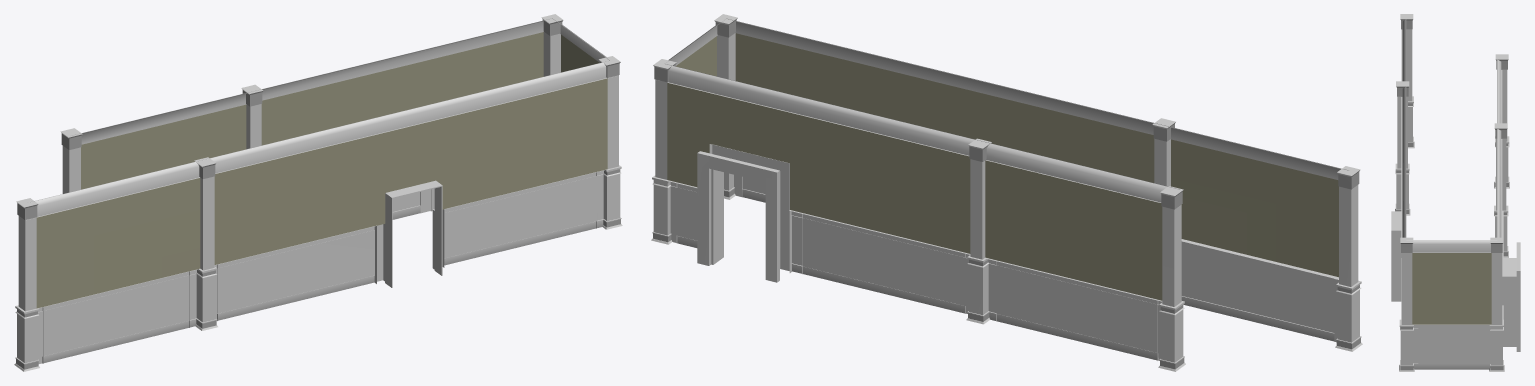
File: SM_H_Building_Tide_WardenOffice_05H_ATLAS.fbx
3 renders of one model, left to right at view 1: azimuth 30°, elevation 25°; view 2: azimuth 150°, elevation 25°; view 3: azimuth 270°, elevation 25°, orthographic. The views are drawn at different scales.
Parts seen in each view (by area): view 1: SM_H_Building_Tide_WardenOffice_05H_ATLAS; view 2: SM_H_Building_Tide_WardenOffice_05H_ATLAS; view 3: SM_H_Building_Tide_WardenOffice_05H_ATLAS.
Part boxes in pixels (x1=…): SM_H_Building_Tide_WardenOffice_05H_ATLAS: x1=14, y1=14, x2=622, y2=371; SM_H_Building_Tide_WardenOffice_05H_ATLAS: x1=651, y1=14, x2=1362, y2=371; SM_H_Building_Tide_WardenOffice_05H_ATLAS: x1=1391, y1=14, x2=1520, y2=371.
Bounding box in the file's own units: 1747 × 416 × 460.
